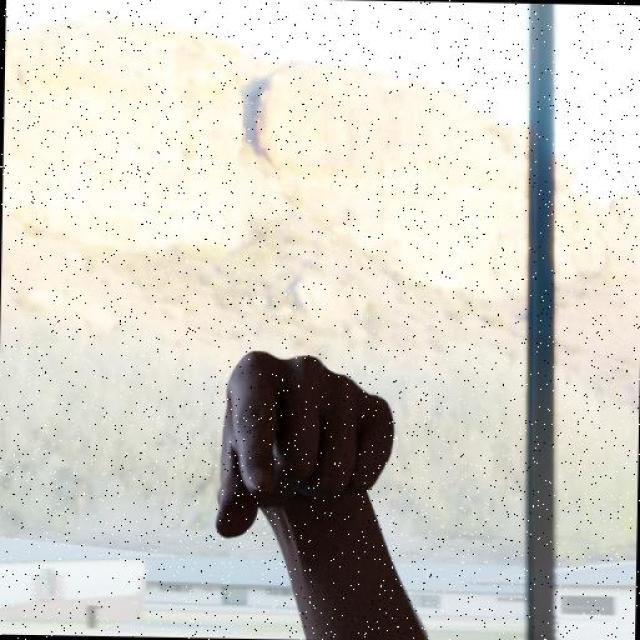Q: (212, 347, 399, 542)
